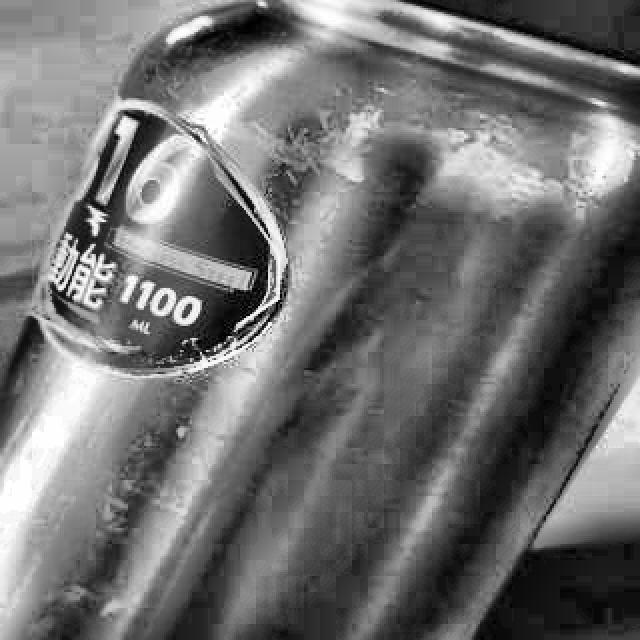bottle: (0, 0, 640, 640)
